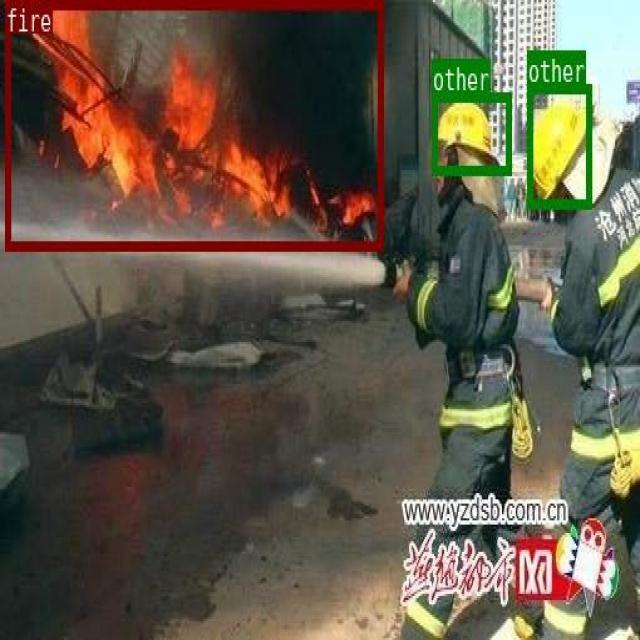fire: (5, 0, 383, 250)
